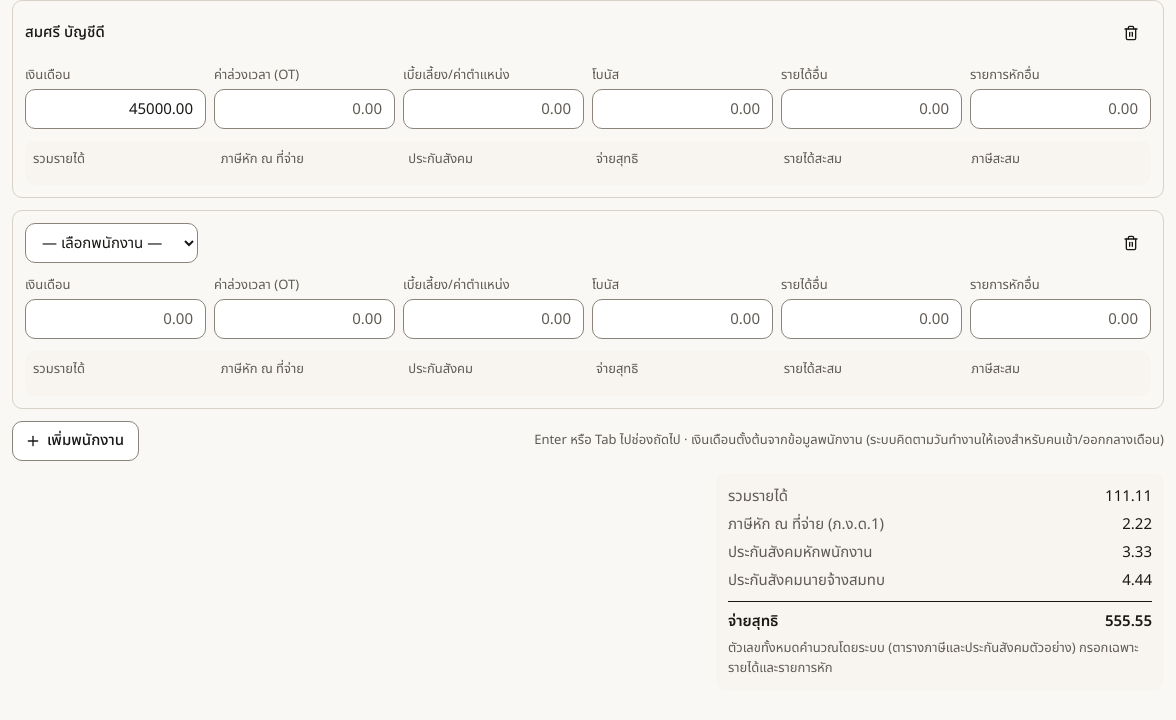
Test: PayrollGrid: rows and keyboard › an employee already in the run is not offered in another row; a row can be removed
Click the button named "เอาพนักงานรายการ 1 ออก": (1131, 33) [1111,13,1151,53]
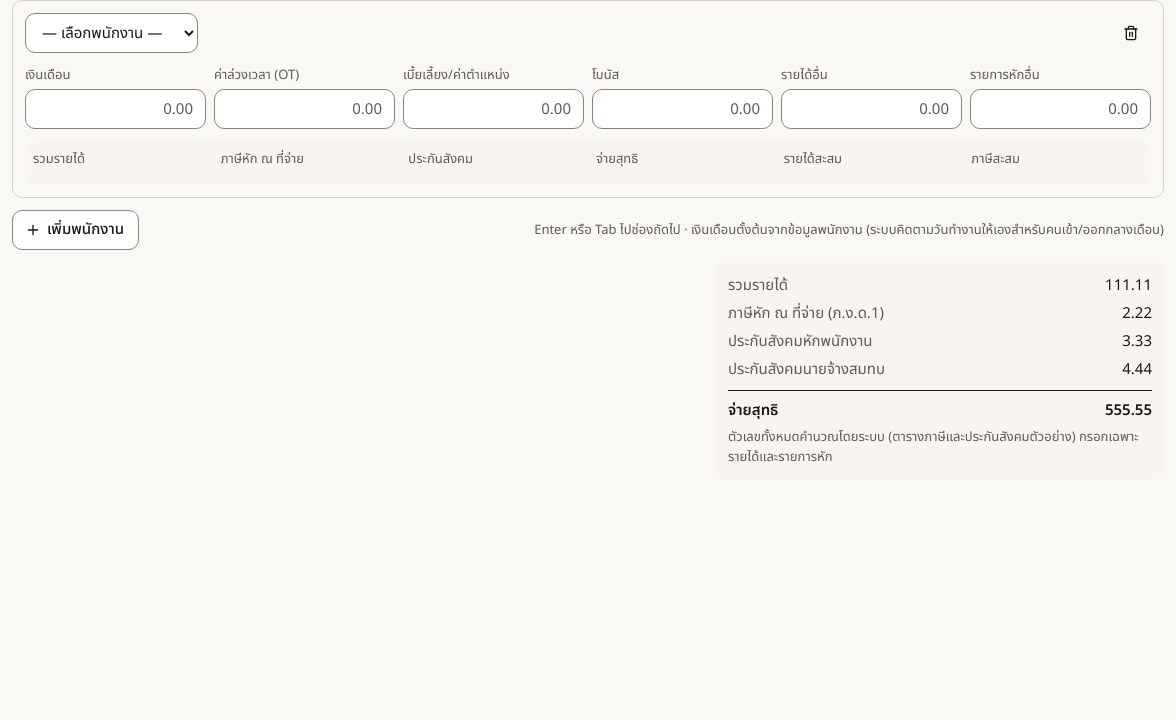
Check: the number of elements with test id "payroll-row" is 1, box [12,0,1164,198]
